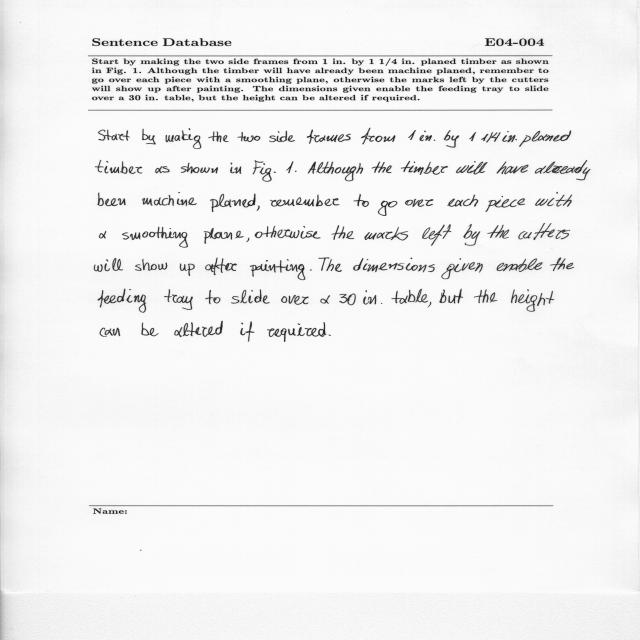word: (122, 227, 188, 248), (268, 322, 327, 342), (250, 259, 305, 280), (98, 289, 146, 313), (353, 258, 435, 272), (308, 162, 363, 182), (535, 160, 590, 180), (511, 289, 554, 312), (520, 130, 572, 147), (518, 223, 570, 240), (441, 258, 483, 279), (255, 226, 321, 239), (210, 194, 256, 212), (270, 195, 339, 207), (174, 321, 223, 337), (142, 193, 197, 207), (166, 128, 202, 149), (307, 129, 351, 144), (96, 160, 143, 174), (401, 161, 448, 175), (485, 196, 525, 212), (204, 228, 244, 244), (422, 224, 451, 246), (164, 289, 193, 310), (497, 259, 543, 272), (364, 227, 408, 240), (535, 192, 572, 207), (391, 289, 428, 304), (231, 290, 270, 304), (361, 128, 395, 144), (205, 258, 237, 275), (252, 160, 276, 182), (456, 161, 487, 175), (497, 162, 529, 175), (94, 258, 123, 272), (135, 259, 167, 271), (464, 224, 481, 246), (181, 163, 218, 173), (98, 193, 126, 206), (448, 195, 478, 207), (98, 130, 130, 141), (439, 289, 463, 303), (332, 225, 354, 240), (319, 258, 342, 272), (550, 258, 574, 271), (378, 200, 397, 216), (474, 290, 497, 303), (269, 131, 295, 142), (488, 225, 510, 238), (363, 290, 382, 305), (281, 295, 309, 305), (241, 322, 255, 342), (444, 130, 459, 148), (405, 199, 434, 207), (208, 132, 229, 143), (238, 132, 261, 142), (142, 323, 159, 336), (481, 132, 501, 143), (372, 162, 392, 173), (142, 129, 156, 144), (206, 290, 221, 304), (353, 194, 369, 207), (339, 294, 356, 305), (180, 264, 195, 276), (100, 328, 120, 337), (502, 131, 517, 142), (420, 131, 435, 141), (230, 163, 241, 174), (155, 167, 170, 174), (320, 295, 330, 304), (286, 161, 293, 173), (408, 130, 416, 140), (469, 132, 476, 141), (100, 231, 106, 238), (428, 302, 432, 308), (257, 206, 260, 211), (246, 238, 249, 242), (295, 171, 297, 172), (310, 270, 312, 271), (329, 335, 331, 336)
